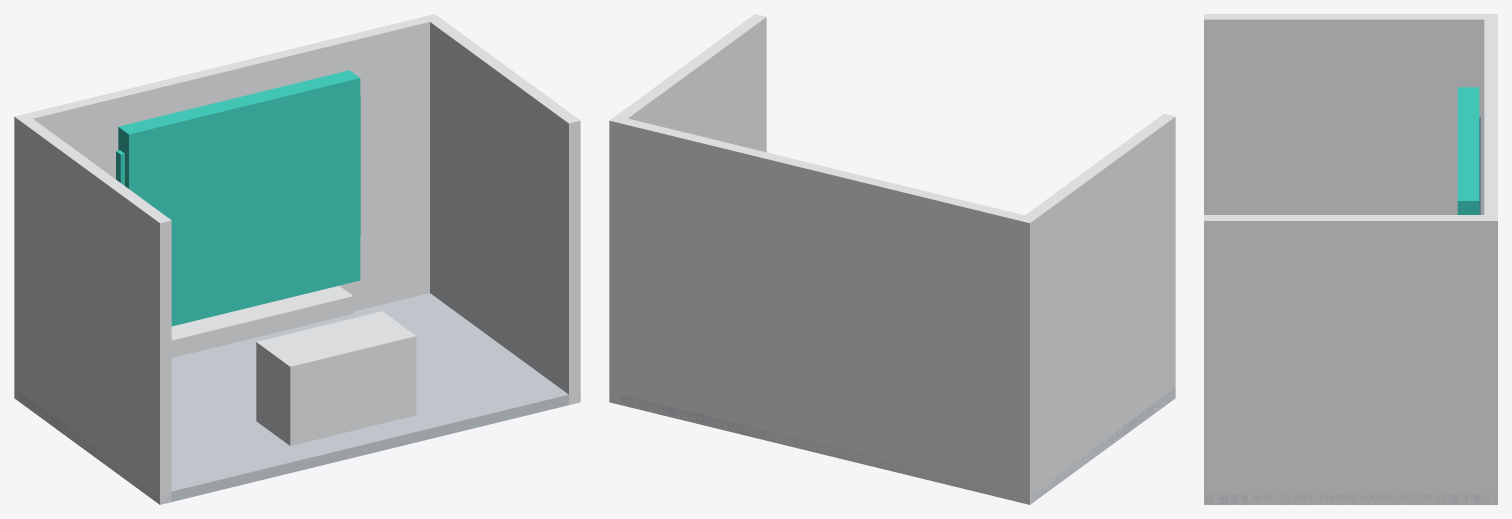
3 renders of one model, left to right at view 1: azimuth 30°, elevation 25°; view 2: azimuth 150°, elevation 25°; view 3: azimuth 270°, elevation 25°, orthographic.
Parts seen in each view (by area): view 1: Exhibition Booth Concept; view 2: Exhibition Booth Concept; view 3: Exhibition Booth Concept.
Part boxes in pixels (left/top/right/bottom): Exhibition Booth Concept: left=14, top=14, right=580, bottom=504; Exhibition Booth Concept: left=609, top=14, right=1175, bottom=504; Exhibition Booth Concept: left=1204, top=14, right=1497, bottom=504.
Bounding box in the file's own units: 5 × 3.2 × 3.
